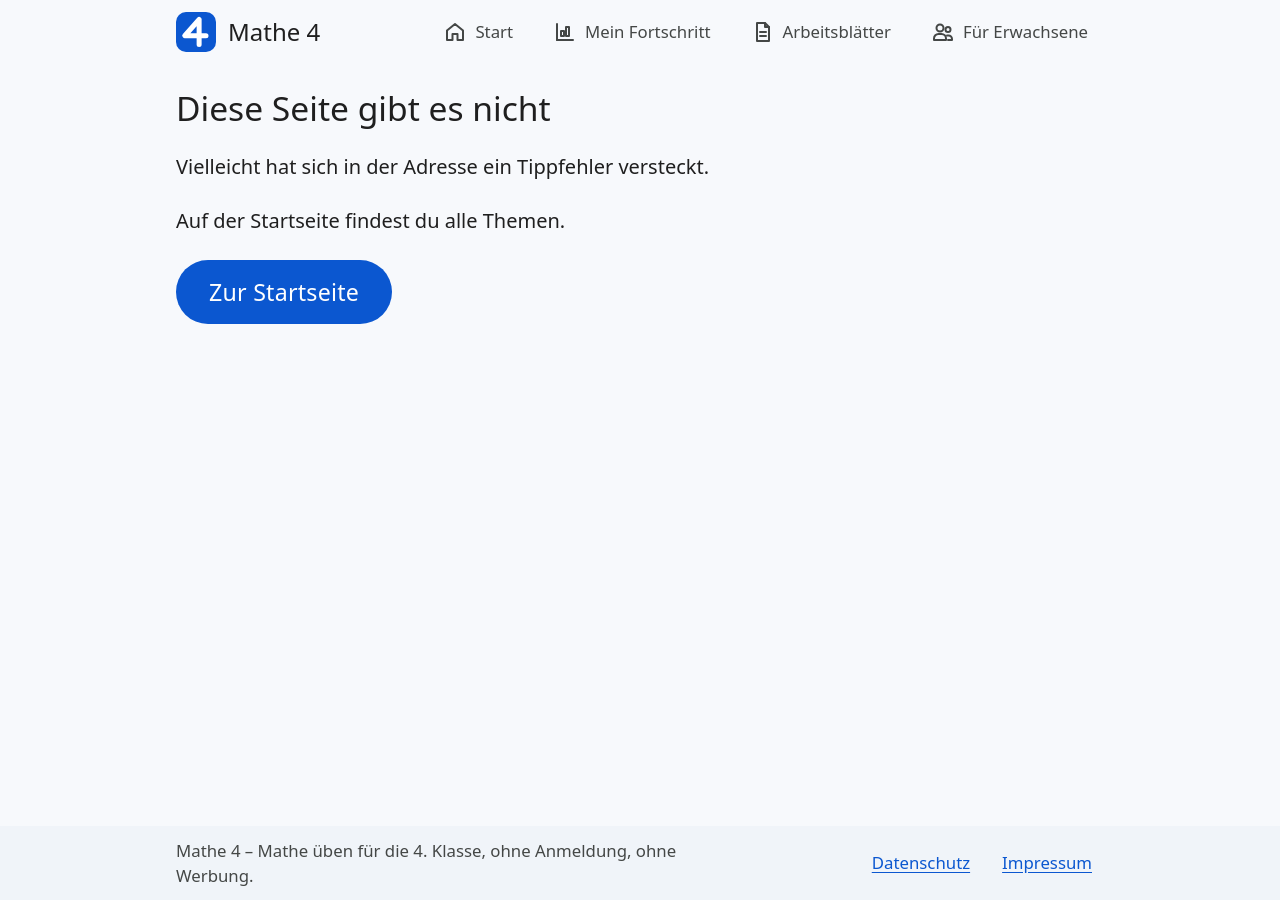
Scenario: router › shows a 404 page for unknown paths
Expected: the heading reads "Diese Seite gibt es nicht", [176,85,551,131]
Click the link "Zur Startseite" at [284, 292], box [176,260,392,324]
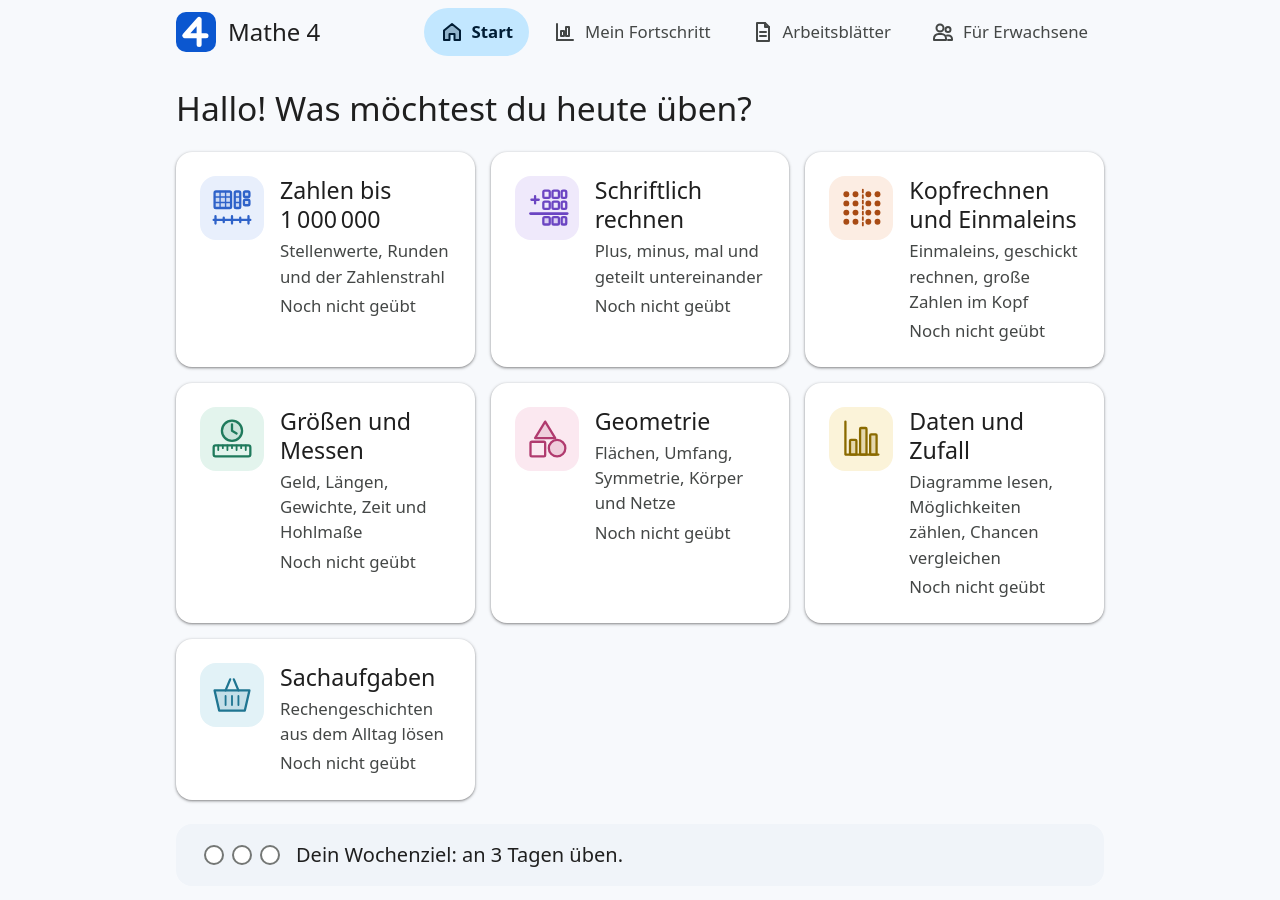
Result: the heading reads "Hallo! Was möchtest du heute üben?" at [176,85,752,131]
